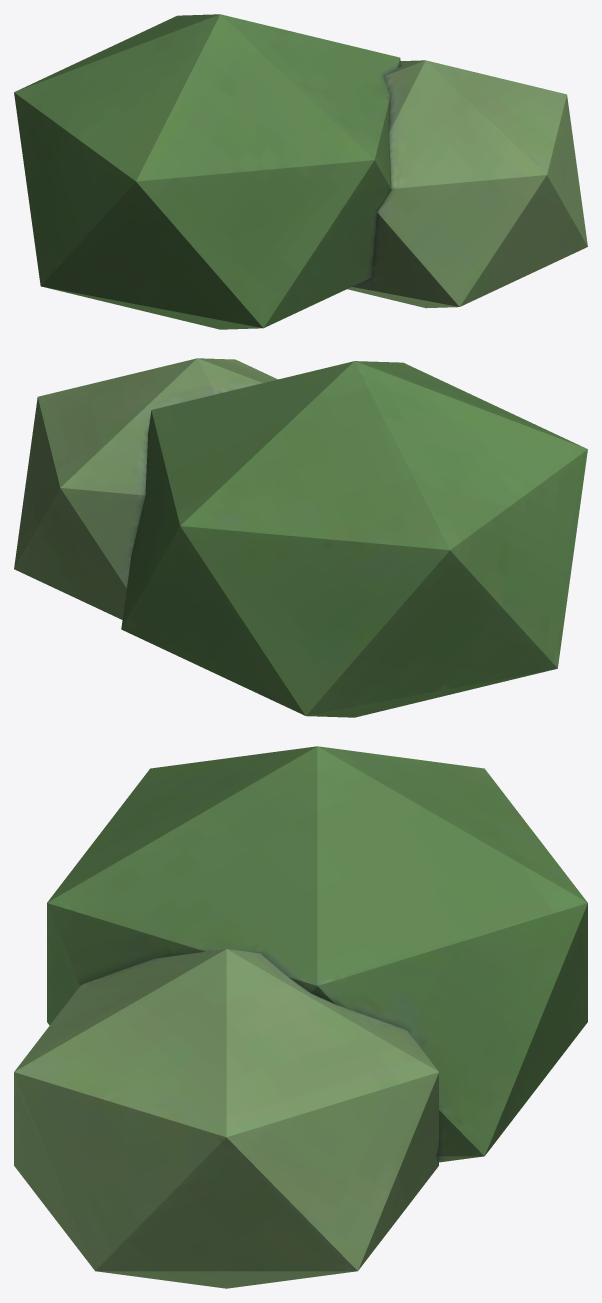
Rendered from life-plant-wild-bush.glb.
3 renders of one model, top to bottom at view 1: azimuth 30°, elevation 25°; view 2: azimuth 150°, elevation 25°; view 3: azimuth 270°, elevation 25°, orthographic. The views are drawn at different scales.
Visible parts, largest first — view 1: life-plant-wild-bush; view 2: life-plant-wild-bush; view 3: life-plant-wild-bush.
Boxes of the visible parts, left/top/right/bottom form: life-plant-wild-bush: left=14, top=14, right=587, bottom=329; life-plant-wild-bush: left=14, top=358, right=587, bottom=717; life-plant-wild-bush: left=14, top=746, right=587, bottom=1288.
Size of the model in its own units: 0.1718 by 0.105 by 0.1263.
1 material, 1 textured.
